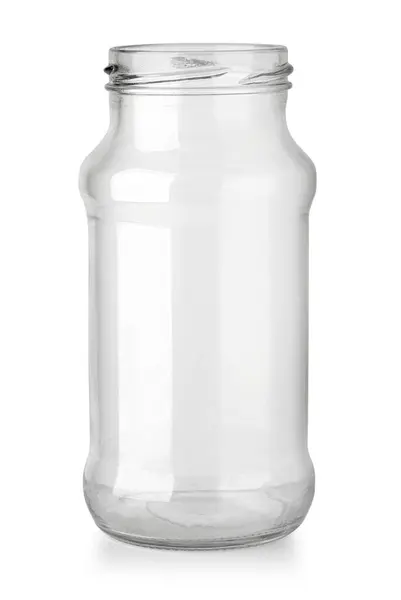glass_bottle: (65, 23, 330, 561)
